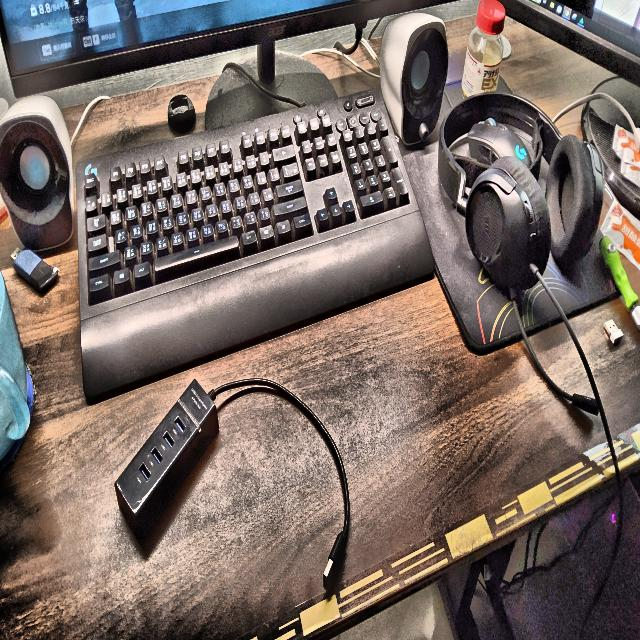HUB: (115, 378, 350, 590)
Keyboard: (76, 90, 434, 398)
MOUSE: (467, 120, 532, 168)
Screen: (0, 0, 451, 97), (500, 0, 640, 81)
